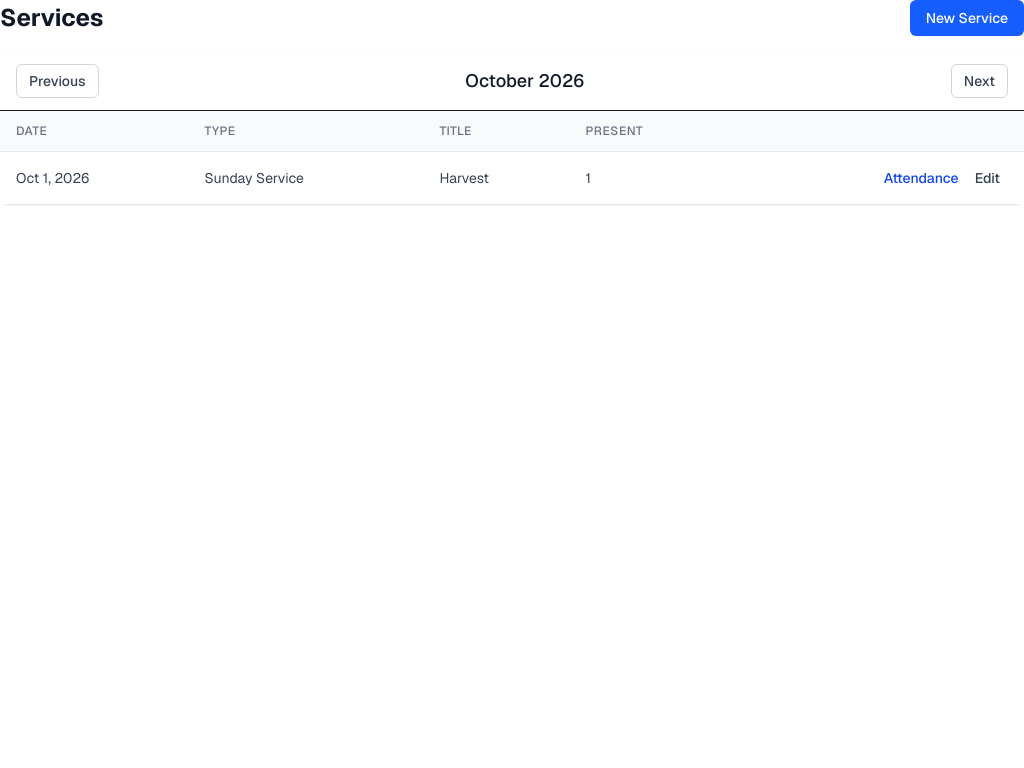
Test: ServicesPage › edits a service
The width and height of the screenshot is (1024, 768).
Click the button with aria-label "Edit Harvest" at (987,178), box [967,164,1008,192]
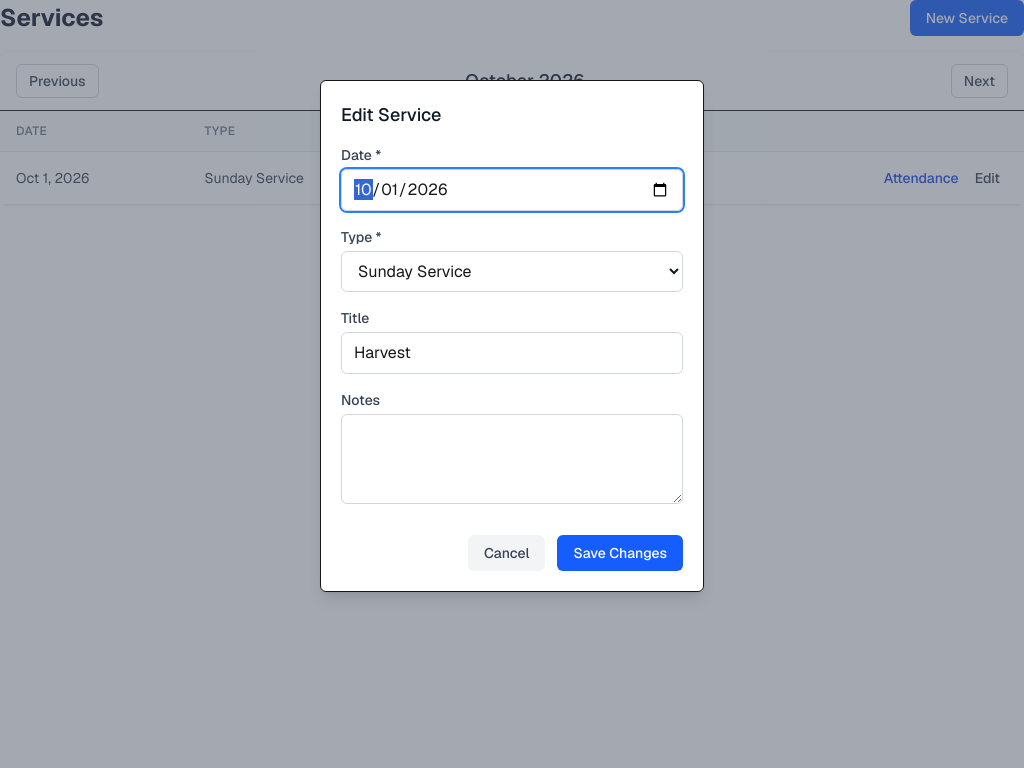
Expected: the field labelled "Title" holds "Harvest"
Replace the text in the field labelled "Title" with "Harvest Sunday" at (512,353), box [341,332,683,374]
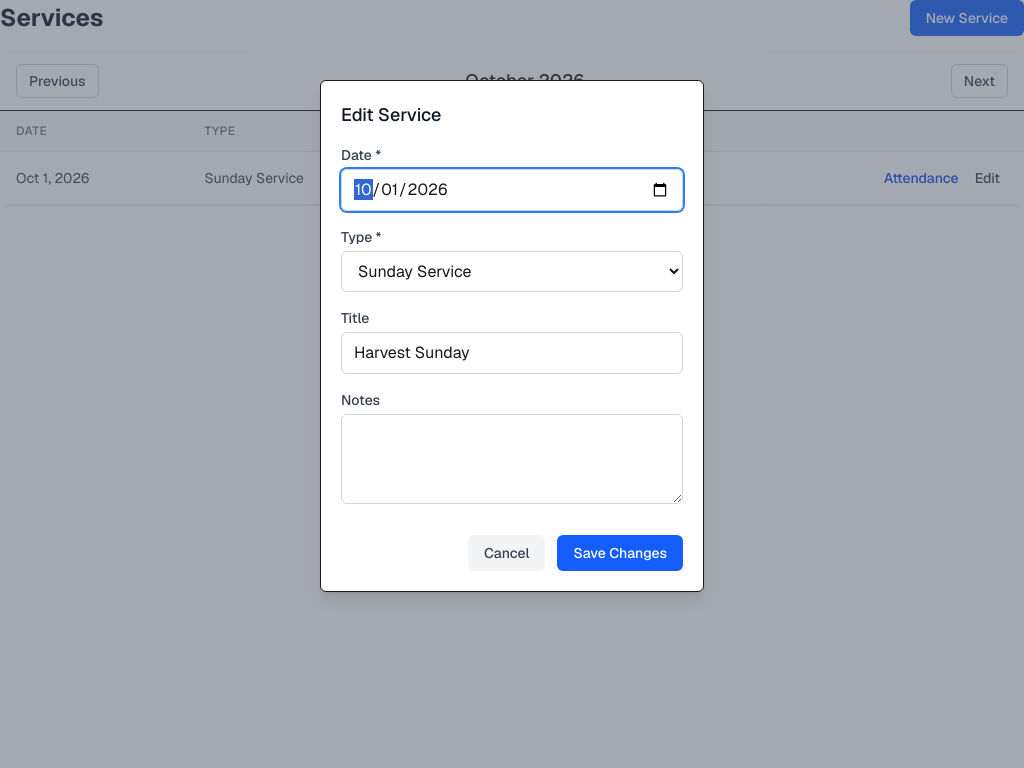
Click the button "Save Changes" at (620,553), box [557,535,683,571]
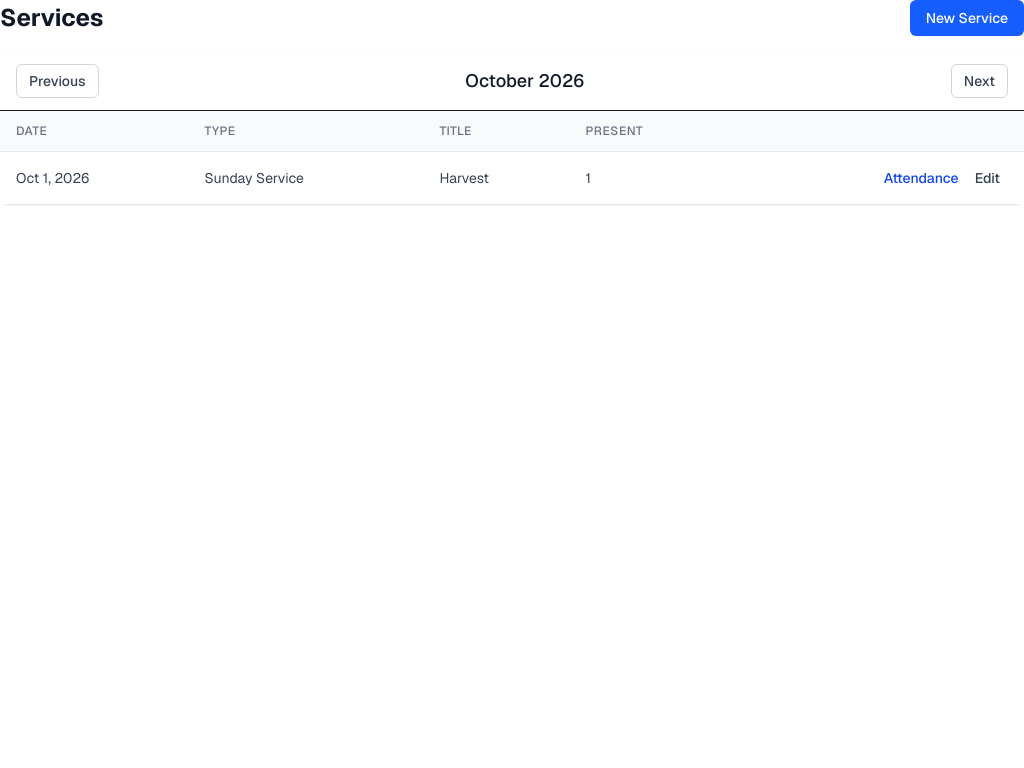
Expected: the dialog is gone
